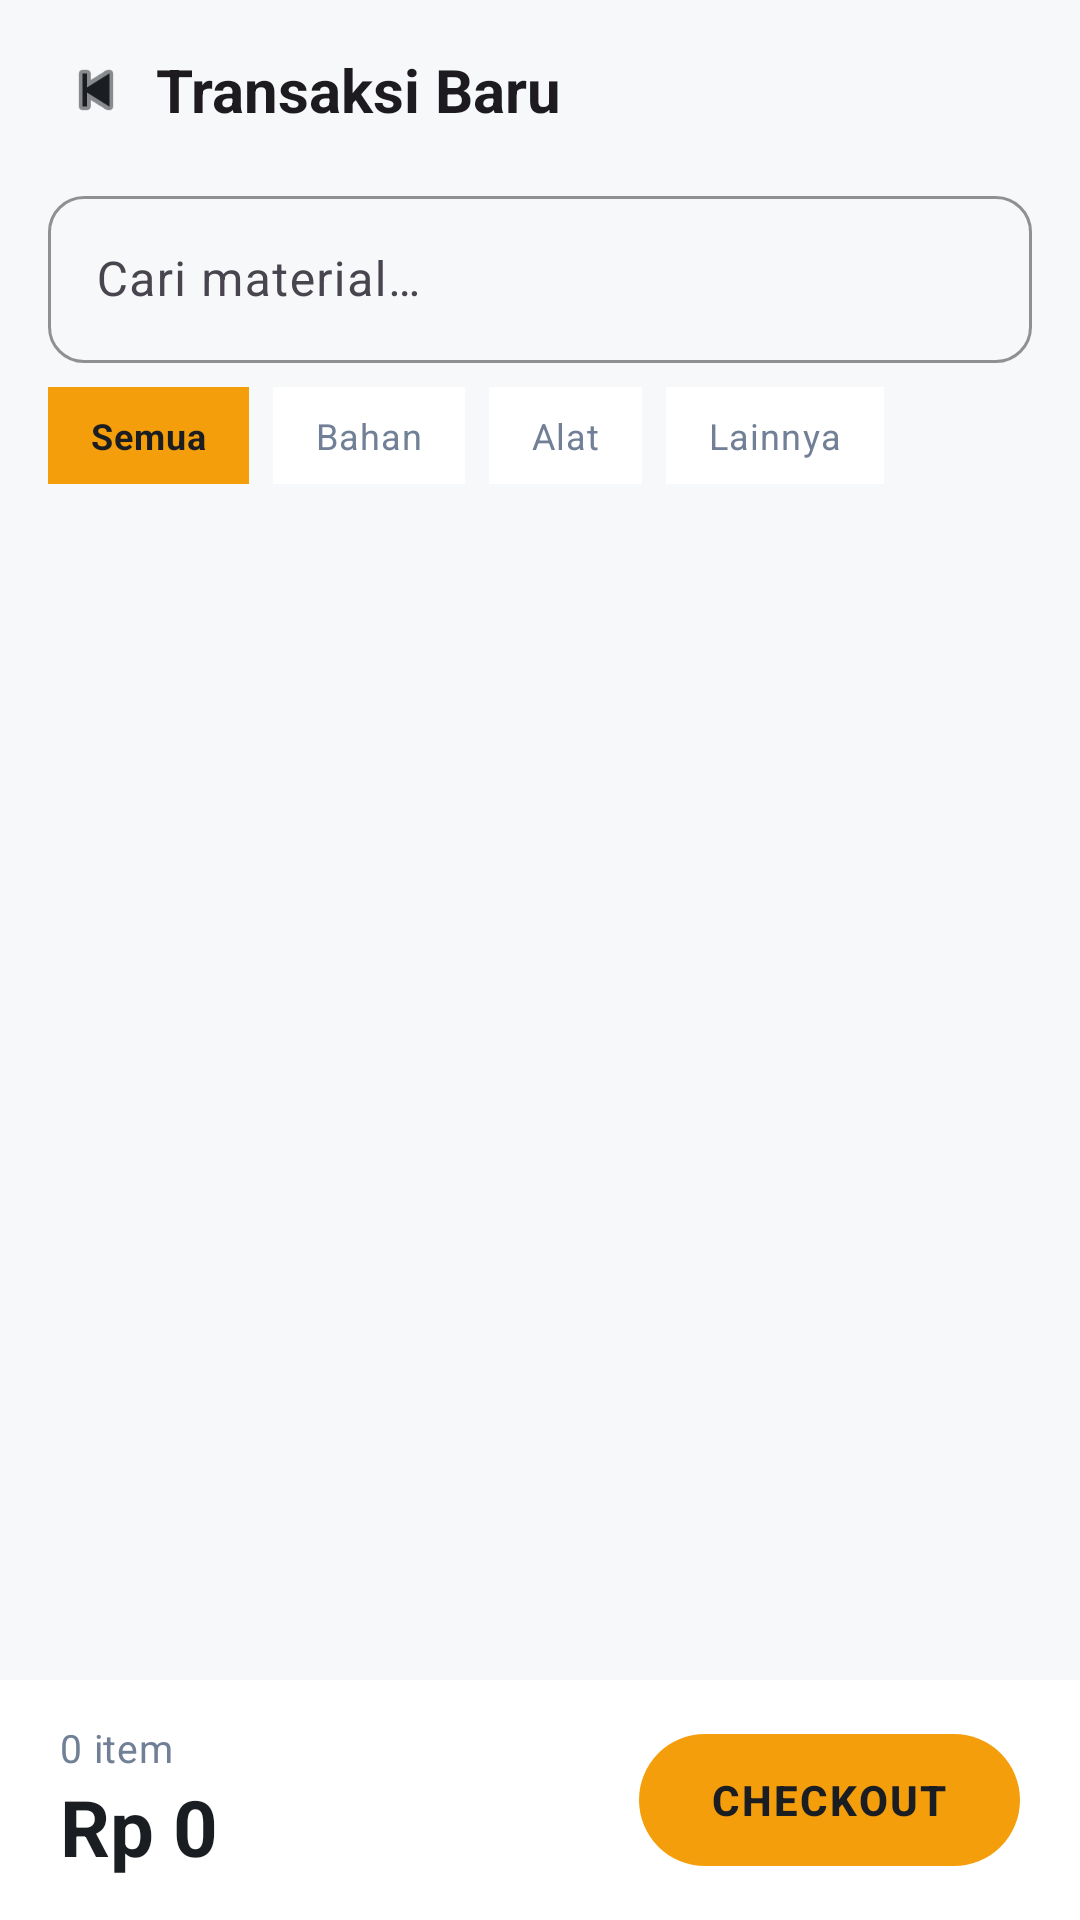

Screen size 1080 × 1920. Icon name, then its box in pixels as rect(x1, y1, x2, y2):
Kembali: rect(79, 70, 113, 110)
